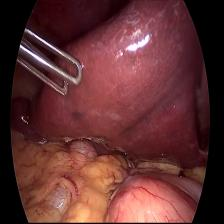Grasper: (14, 29, 86, 103)
